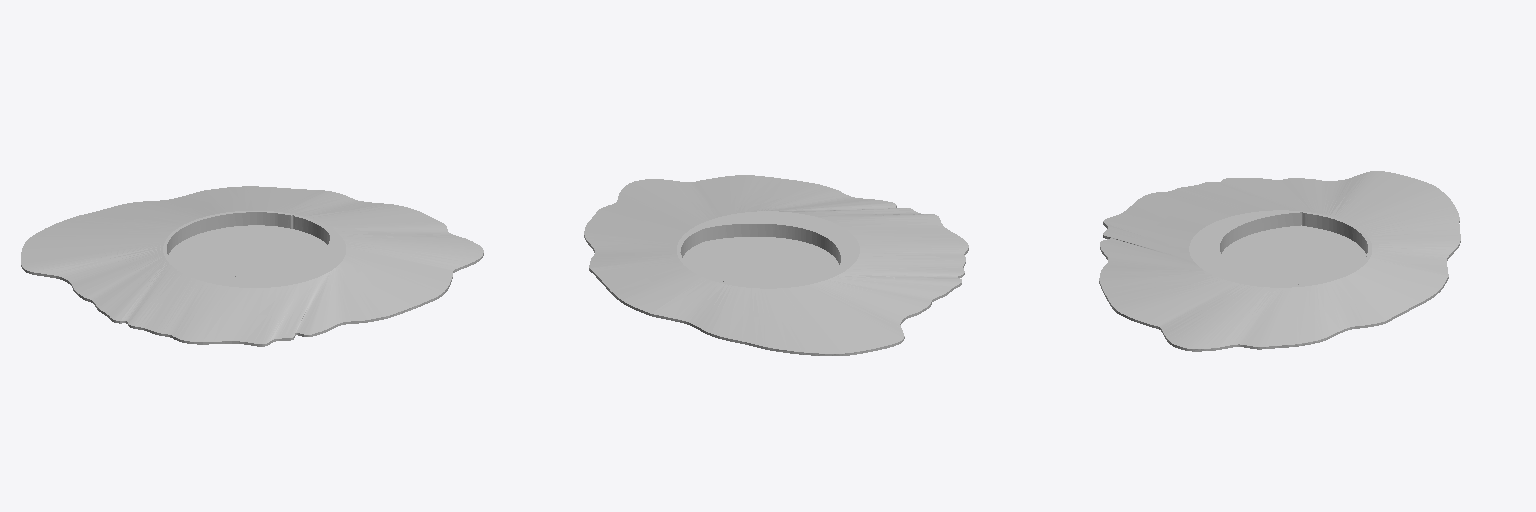
The model's file is white.obj.
3 renders of one model, left to right at view 1: azimuth 30°, elevation 25°; view 2: azimuth 150°, elevation 25°; view 3: azimuth 270°, elevation 25°, orthographic.
Visible parts, largest first — view 1: white_White; view 2: white_White; view 3: white_White.
Boxes of the visible parts, x1,y1,x2,y2 form: white_White: [21, 186, 483, 346]; white_White: [584, 175, 968, 355]; white_White: [1099, 171, 1460, 351].
Bounding box in the file's own units: 1.23 × 0.0422 × 1.06.